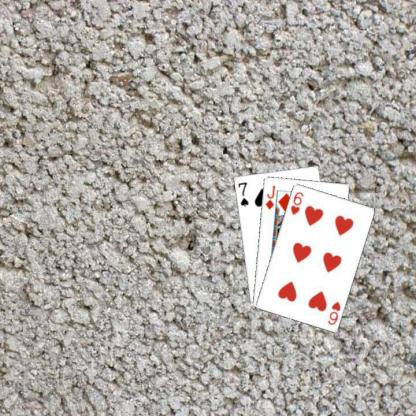6H: (324, 299, 342, 326), (288, 189, 304, 216)
7S: (235, 180, 250, 207)
JD: (263, 183, 277, 210)
